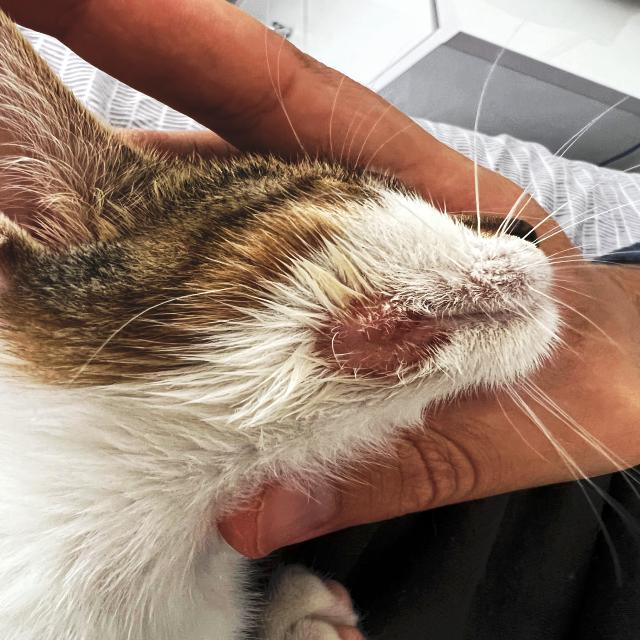ringworm: (304, 298, 431, 382)
